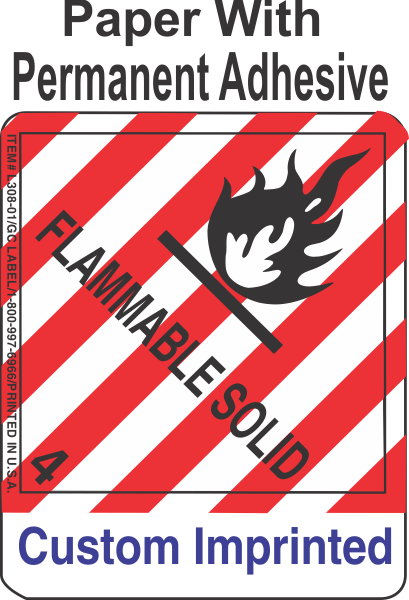FlammableSolid: (8, 115, 399, 502)
